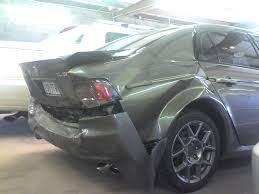quaterpanel-dent: (123, 63, 203, 124)
rear-bumper-dent: (23, 102, 124, 147)
